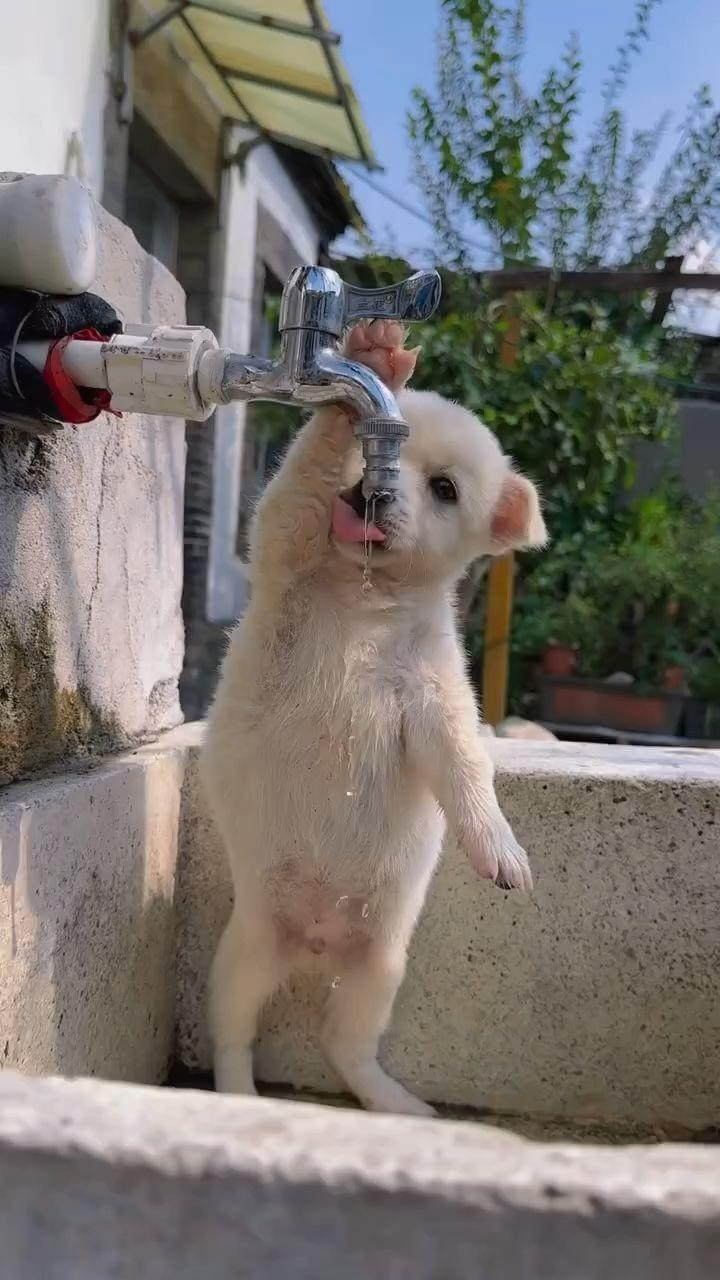puppy-dog: (181, 315, 551, 1115)
